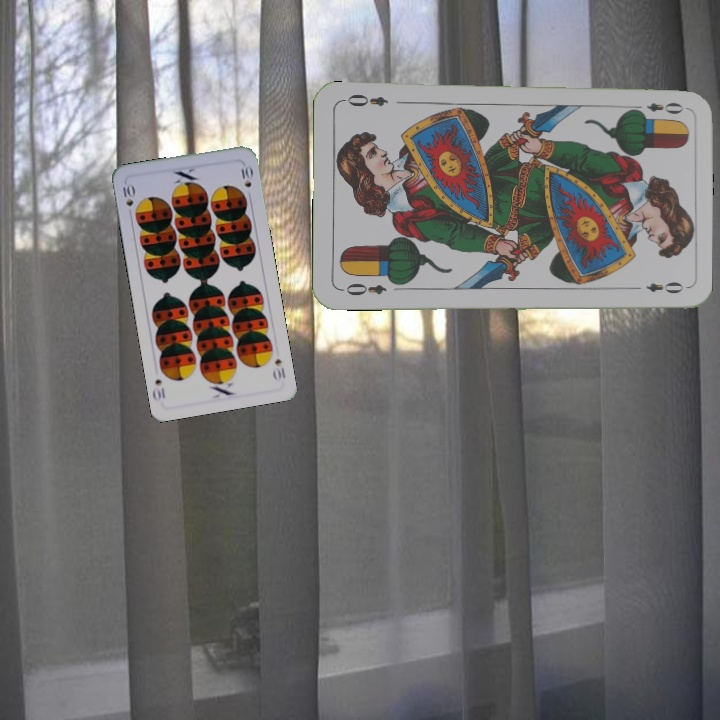EO: (628, 98, 686, 117), (337, 279, 389, 299)
S10: (118, 180, 137, 219), (269, 354, 288, 383)
